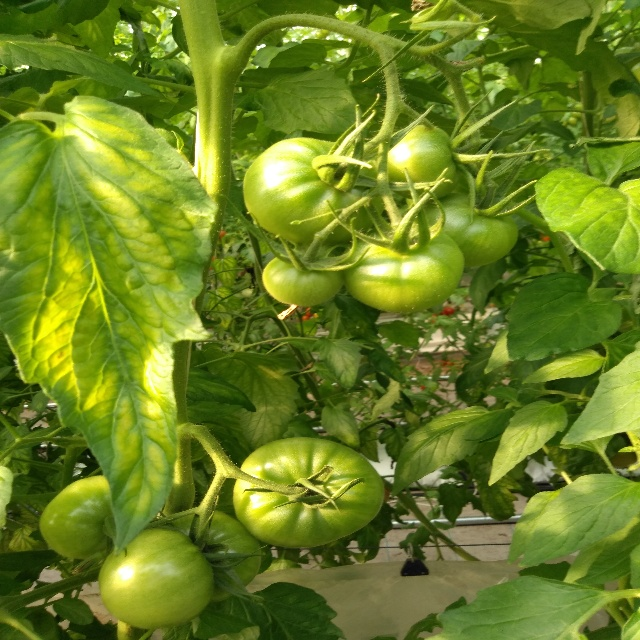b_green: (233, 437, 385, 548), (243, 138, 386, 244), (99, 527, 215, 629), (342, 216, 465, 312), (157, 508, 262, 603), (410, 193, 518, 267), (40, 475, 117, 559), (378, 124, 459, 200), (262, 247, 345, 307)
